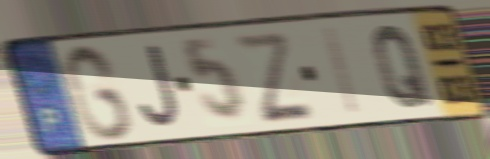5: (176, 33, 253, 130)
G: (60, 40, 137, 144)
I: (322, 24, 365, 119)
J: (137, 42, 182, 132)
Q: (370, 22, 435, 112)
Z: (229, 29, 317, 126)
